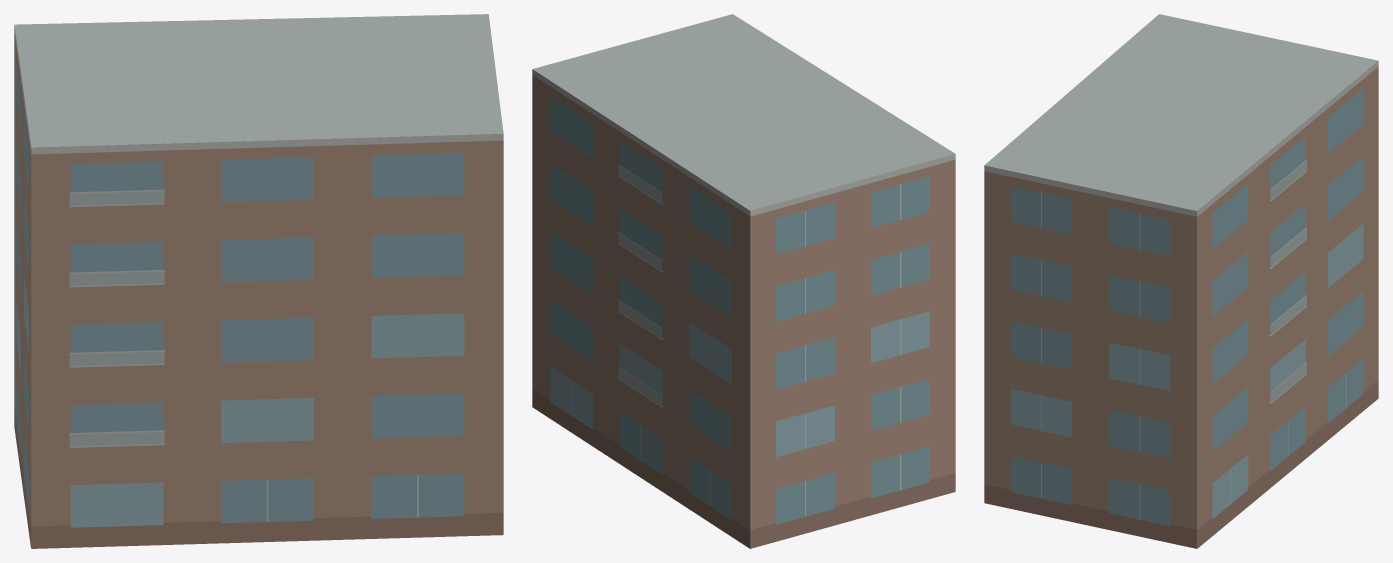
File: survey-upis-32950233.glb
3 views of the same model, side by side, from view 1: azimuth 30°, elevation 25°; view 2: azimuth 150°, elevation 25°; view 3: azimuth 270°, elevation 25° (orthographic). The views are drawn at different scales.
Visible parts, largest first — view 1: survey-upis-32950233.tmp; view 2: survey-upis-32950233.tmp; view 3: survey-upis-32950233.tmp.
Part boxes in pixels (x1,y1,x2,y2): survey-upis-32950233.tmp: (14,14,503,548); survey-upis-32950233.tmp: (532,14,955,548); survey-upis-32950233.tmp: (984,14,1378,548).
Size of the model in its own units: 18.04 by 14.4 by 15.25.
